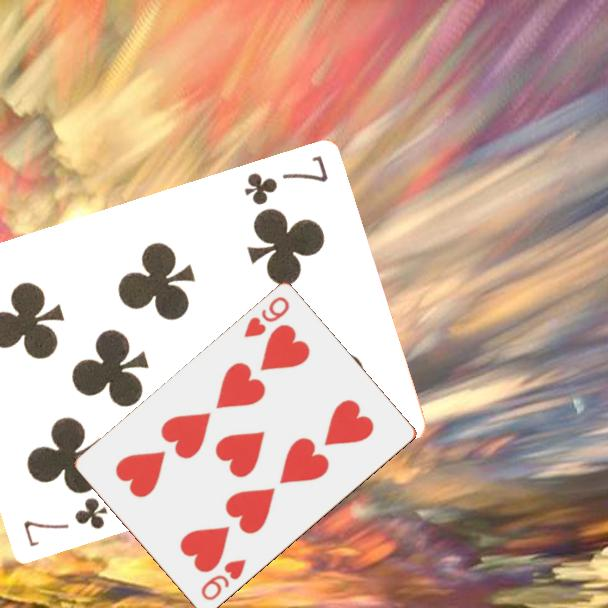c07: (19, 494, 110, 551), (240, 152, 331, 209)
h09: (240, 293, 293, 341), (197, 556, 249, 604)
